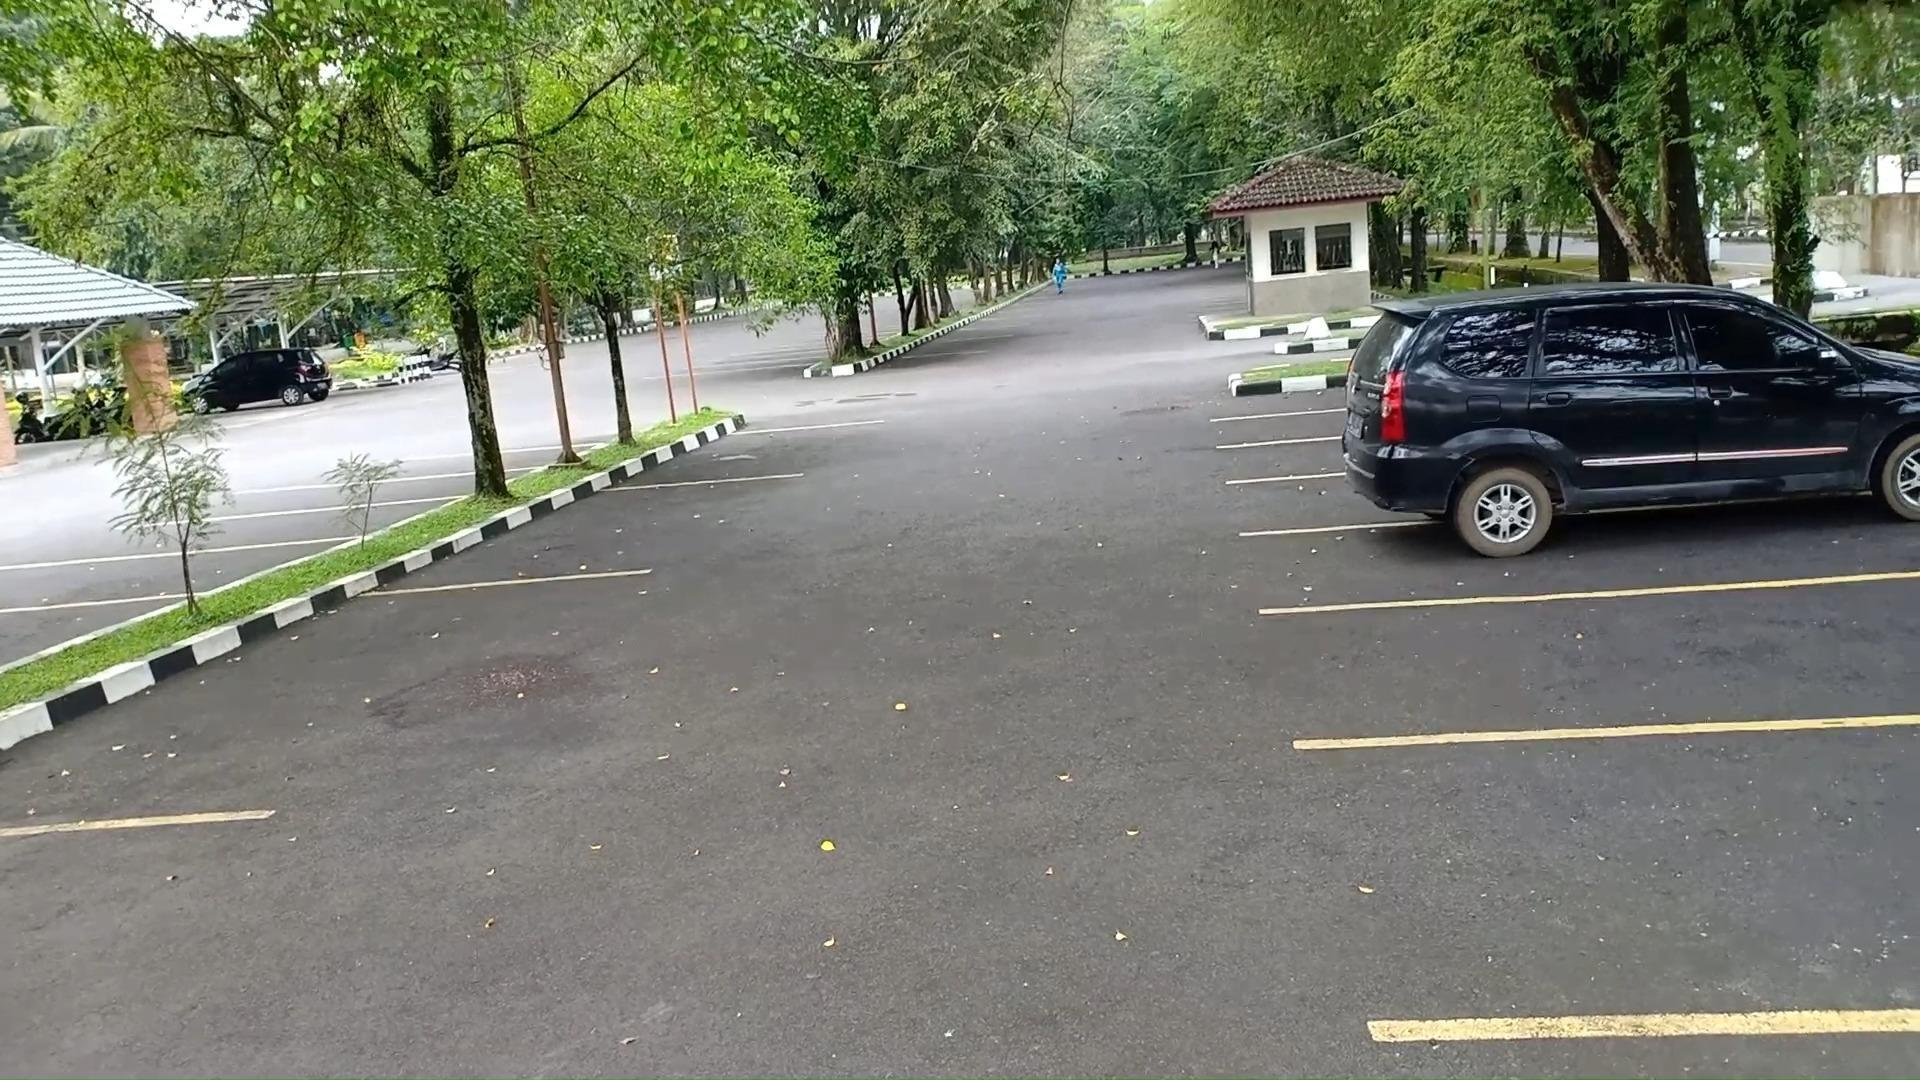empty: (1371, 727, 1920, 1040), (219, 584, 624, 830), (1298, 584, 1920, 728), (508, 479, 804, 582), (689, 420, 884, 477), (47, 555, 262, 600), (174, 510, 386, 552), (268, 477, 478, 509)
occupied: (1335, 379, 1920, 581)
